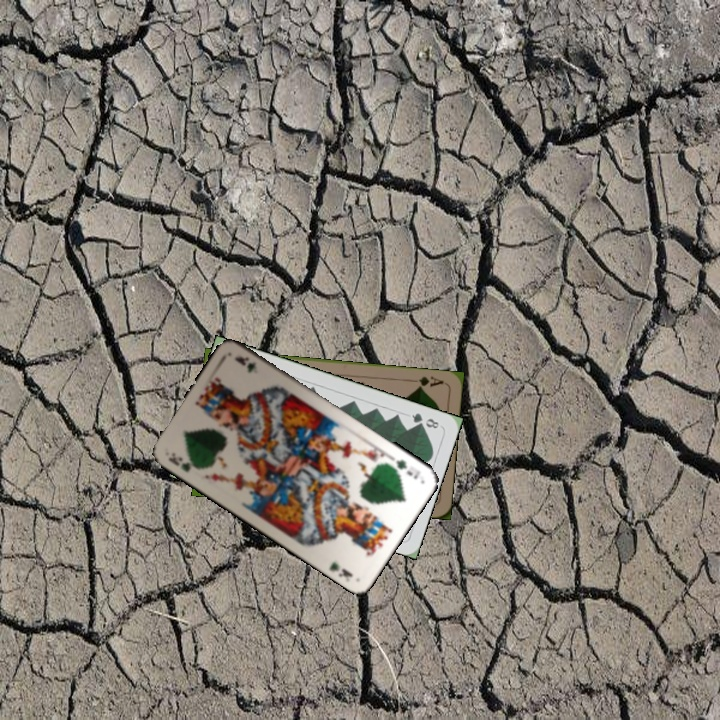G8: (407, 409, 442, 431)
GA: (406, 372, 446, 391)
GK: (164, 448, 203, 475), (392, 456, 423, 482)
